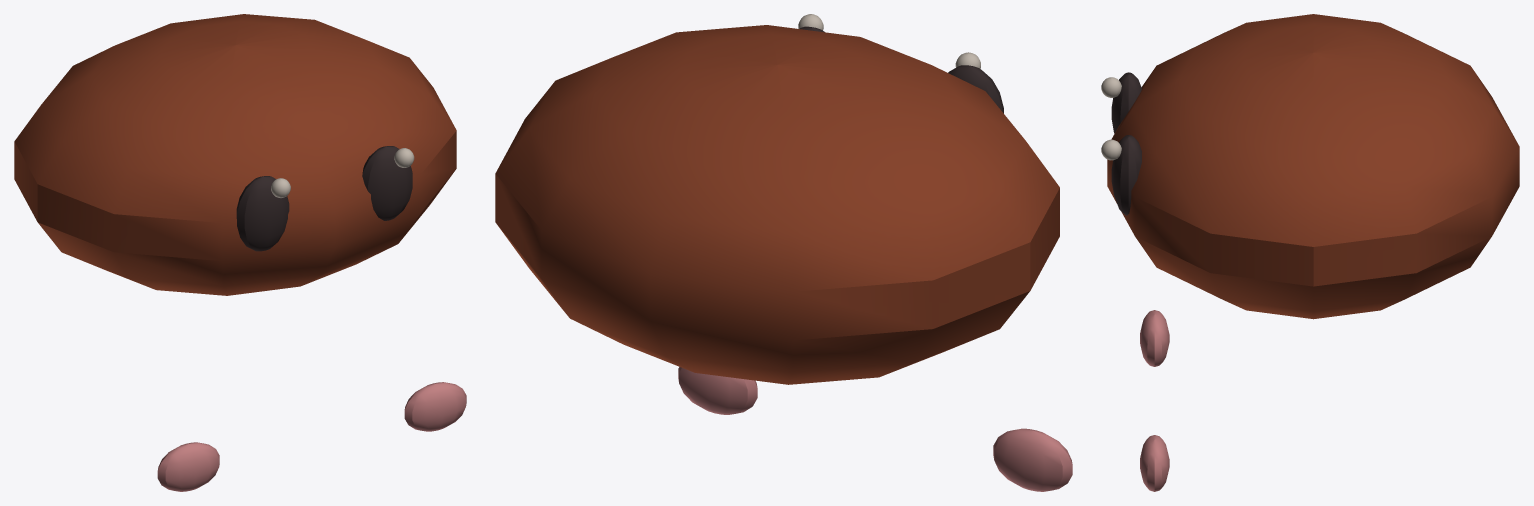
3 views of the same model, side by side, from view 1: azimuth 30°, elevation 25°; view 2: azimuth 150°, elevation 25°; view 3: azimuth 270°, elevation 25° (orthographic). The views are drawn at different scales.
Visible parts, largest first — view 1: pet_p48410924; view 2: pet_p48410924; view 3: pet_p48410924.
Part boxes in pixels (left/top/right/bottom): pet_p48410924: left=14, top=14, right=466, bottom=491; pet_p48410924: left=495, top=14, right=1072, bottom=491; pet_p48410924: left=1101, top=14, right=1519, bottom=491.
Bounding box in the file's own units: 0.3851 × 0.3334 × 0.3398.
